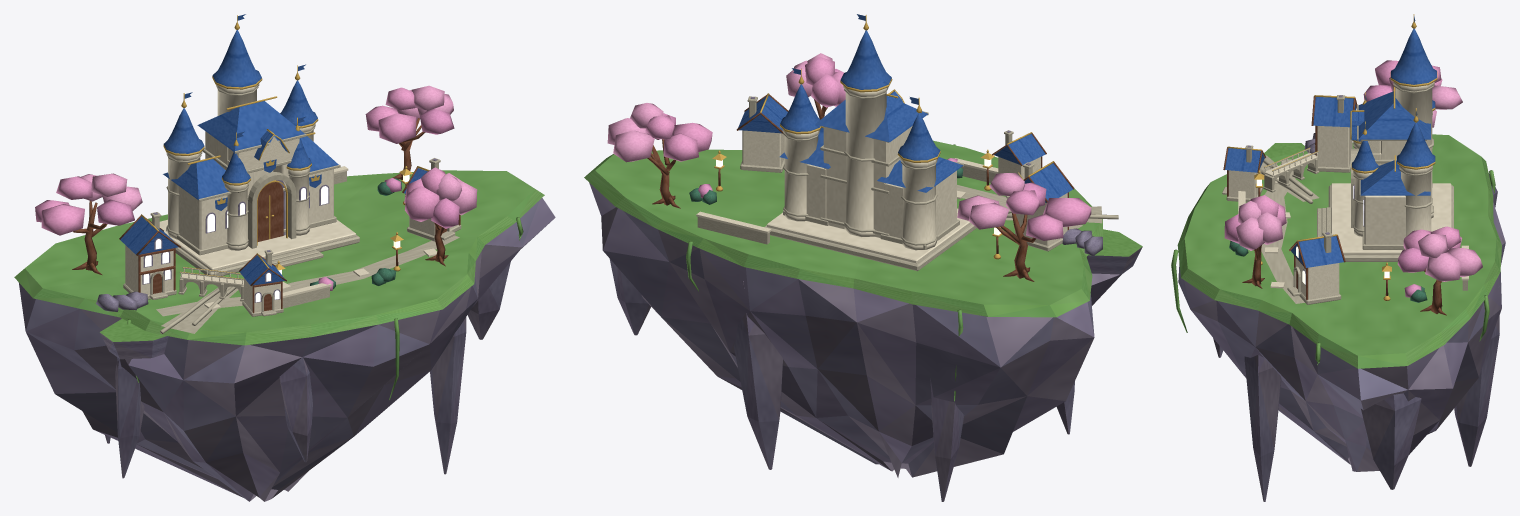
The model's file is royal-island-left-low.glb.
3 renders of one model, left to right at view 1: azimuth 30°, elevation 25°; view 2: azimuth 150°, elevation 25°; view 3: azimuth 270°, elevation 25°, orthographic. The views are drawn at different scales.
Parts seen in each view (by area): view 1: royal-island-left; view 2: royal-island-left; view 3: royal-island-left.
Part boxes in pixels (x1=…): royal-island-left: x1=14, y1=14, x2=555, y2=501; royal-island-left: x1=584, y1=14, x2=1142, y2=501; royal-island-left: x1=1171, y1=14, x2=1505, y2=501.
Bounding box in the file's own units: 19.7 × 17.12 × 11.54.
Materials: 10 (10 with a texture image).
